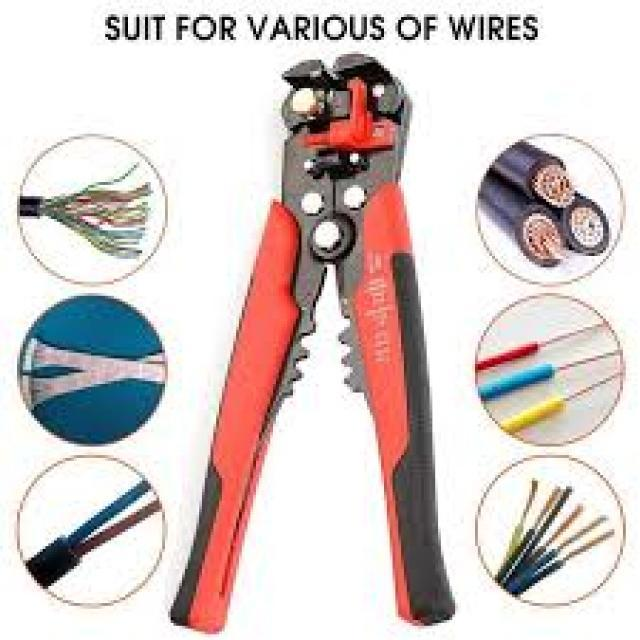pliers: (160, 49, 462, 636)
